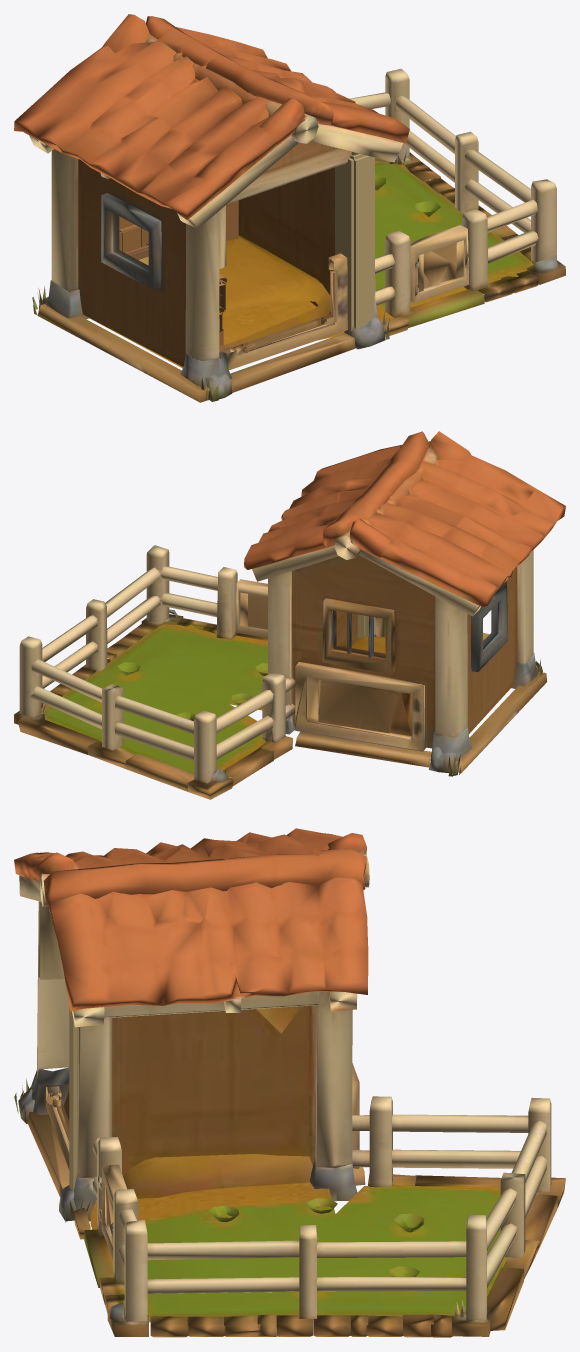
3 renders of one model, top to bottom at view 1: azimuth 30°, elevation 25°; view 2: azimuth 150°, elevation 25°; view 3: azimuth 270°, elevation 25°, orthographic. The views are drawn at different scales.
Visible parts, largest first — view 1: tripo_node_1ab5f93f-4f39-4ac6-bcbe-408c19fe9d91, 외형 세부; view 2: tripo_node_1ab5f93f-4f39-4ac6-bcbe-408c19fe9d91; view 3: tripo_node_1ab5f93f-4f39-4ac6-bcbe-408c19fe9d91, 외형 세부.
Boxes of the visible parts, x1=… form: tripo_node_1ab5f93f-4f39-4ac6-bcbe-408c19fe9d91: x1=14, y1=14, x2=565, y2=402; 외형 세부: x1=119, y1=154, x2=374, y2=352; tripo_node_1ab5f93f-4f39-4ac6-bcbe-408c19fe9d91: x1=14, y1=431, x2=565, y2=799; tripo_node_1ab5f93f-4f39-4ac6-bcbe-408c19fe9d91: x1=14, y1=828, x2=565, y2=1337; 외형 세부: x1=45, y1=1007, x2=111, y2=1202.
Size of the model in its own units: 8 by 4.44 by 7.01.
2 materials, 1 textured.
